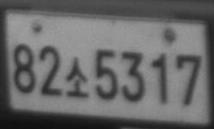1: (149, 51, 175, 104)
2: (38, 44, 62, 95)
3: (121, 50, 145, 102)
5: (95, 48, 118, 100)
7: (176, 53, 201, 107)
8: (12, 42, 36, 93)
소: (64, 56, 90, 97)
